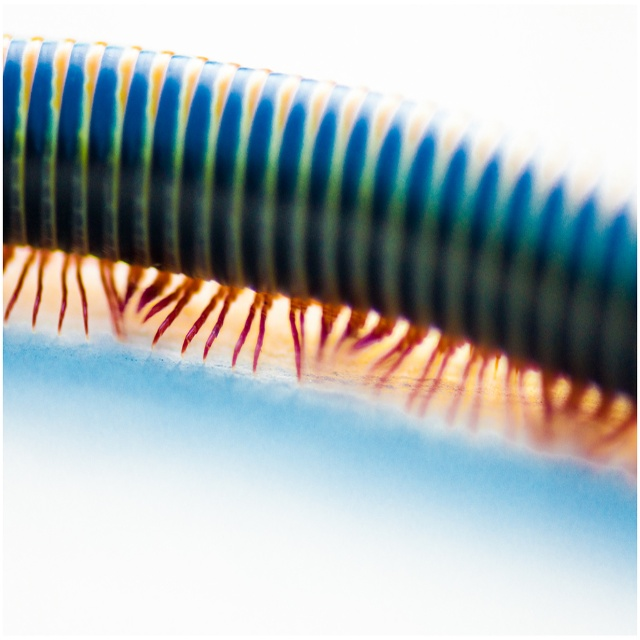Centipede: (0, 6, 640, 447)
